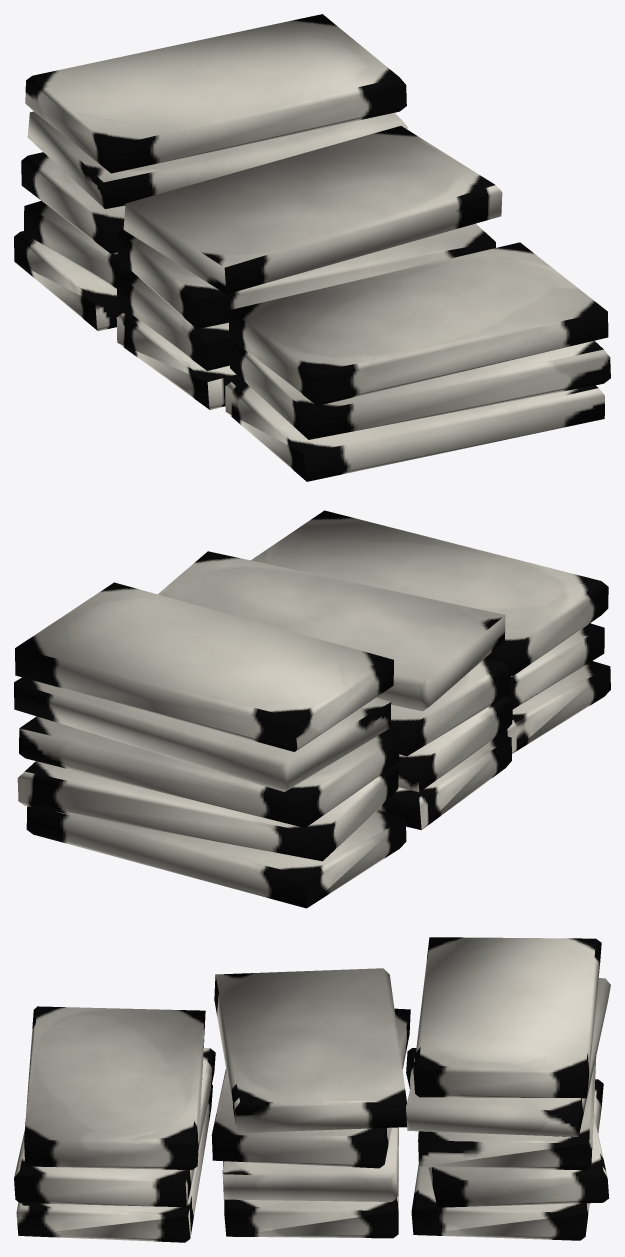
The model's file is CarritoDiarios_diario.fbx.
3 views of the same model, one above another, from view 1: azimuth 30°, elevation 25°; view 2: azimuth 150°, elevation 25°; view 3: azimuth 270°, elevation 25° (orthographic). The views are drawn at different scales.
Parts seen in each view (by area): view 1: Civ_CarritoDiarios_diario; view 2: Civ_CarritoDiarios_diario; view 3: Civ_CarritoDiarios_diario.
Part boxes in pixels (left/top/right/bottom): Civ_CarritoDiarios_diario: left=14, top=14, right=610, bottom=481; Civ_CarritoDiarios_diario: left=14, top=510, right=610, bottom=908; Civ_CarritoDiarios_diario: left=14, top=937, right=610, bottom=1242.
Bounding box in the file's own units: 1.39 × 0.7857 × 2.39.
